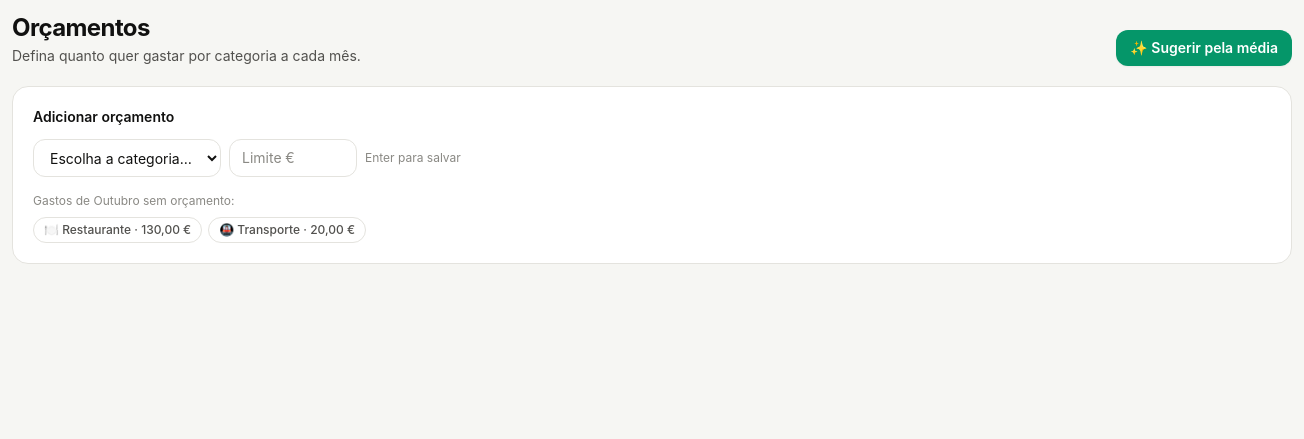
Test: Orçamentos › adds a budget by category with Enter, and shows ok / 80% / over states
The image size is (1304, 439).
Expected: the text "Gastos de Outubro sem orçamento:" is shown, [33, 193, 234, 208]
Select "🍽️ Restaurante" in the dropdown named "Categoria": [127, 158] box [33, 139, 221, 177]
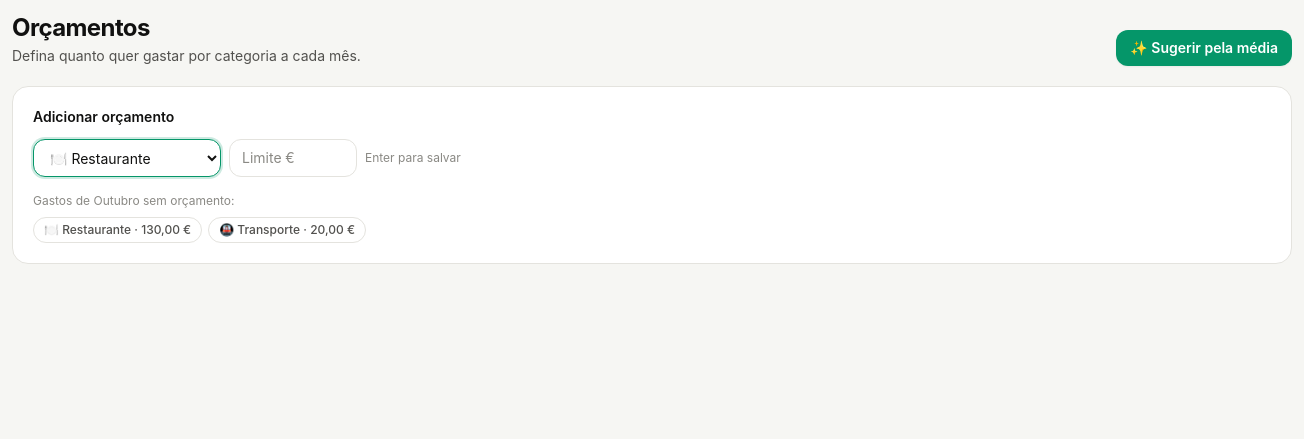
In the field with placeholder "Limite €": [293, 158] box [229, 139, 357, 177], type "150"
Then press Enter
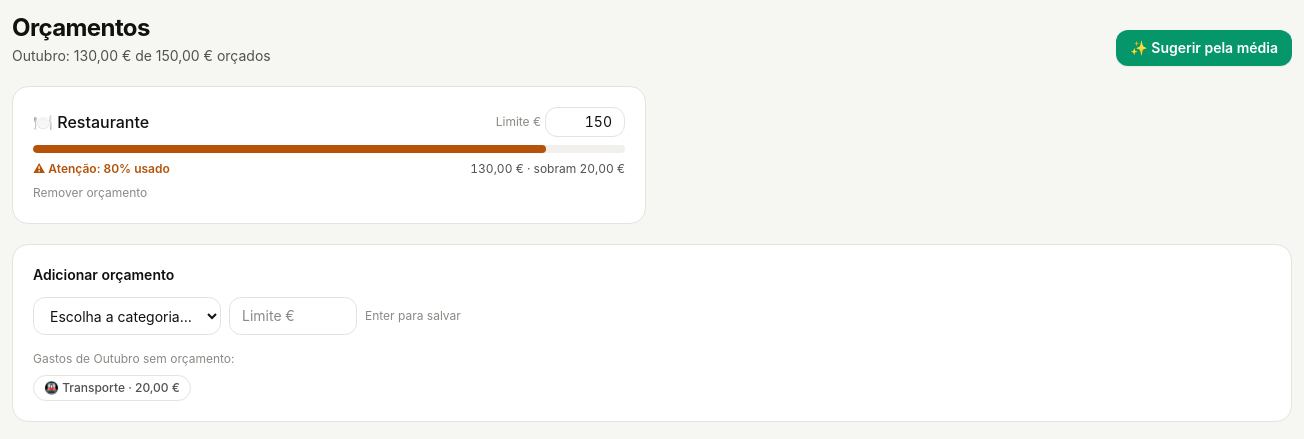
Expected: the text "⚠ Atenção: 80% usado" is shown, [33, 161, 170, 177]
Expected: the element named "Limite de Restaurante" shows "🍽️ Restaurante Limite € ⚠ Atenção: 80% usado 130,00 € · sobram 20,00 € Remover", [534, 161, 625, 176]
Replace the text in the field named "Limite de Restaurante" with "100": [585, 122] box [545, 107, 625, 137]
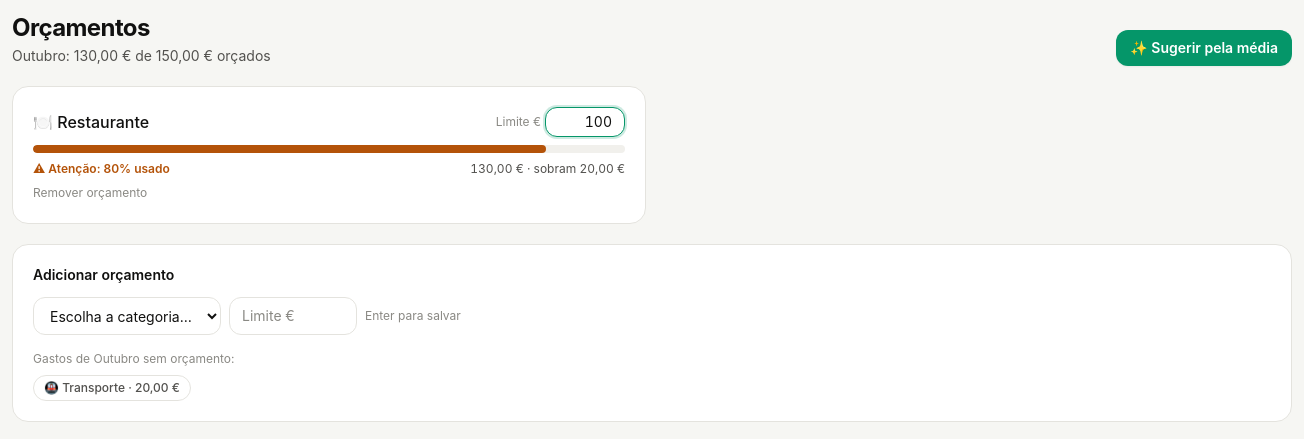
Press Tab
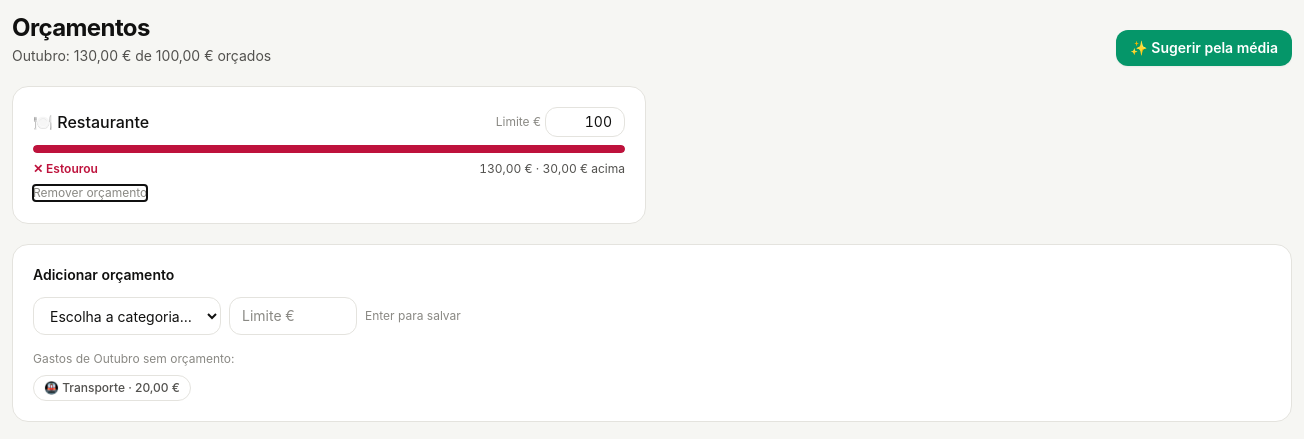
Expected: the element named "Limite de Restaurante" shows "✕ Estourou", [12, 86, 646, 224]
Expected: the element named "Limite de Restaurante" reads "🍽️ Restaurante Limite € ✕ Estourou 130,00 € · 30,00 € acima Remover orçamento", [542, 161, 625, 176]
Replace the text in the field named "Limite de Restaurante" with "500": [585, 122] box [545, 107, 625, 137]
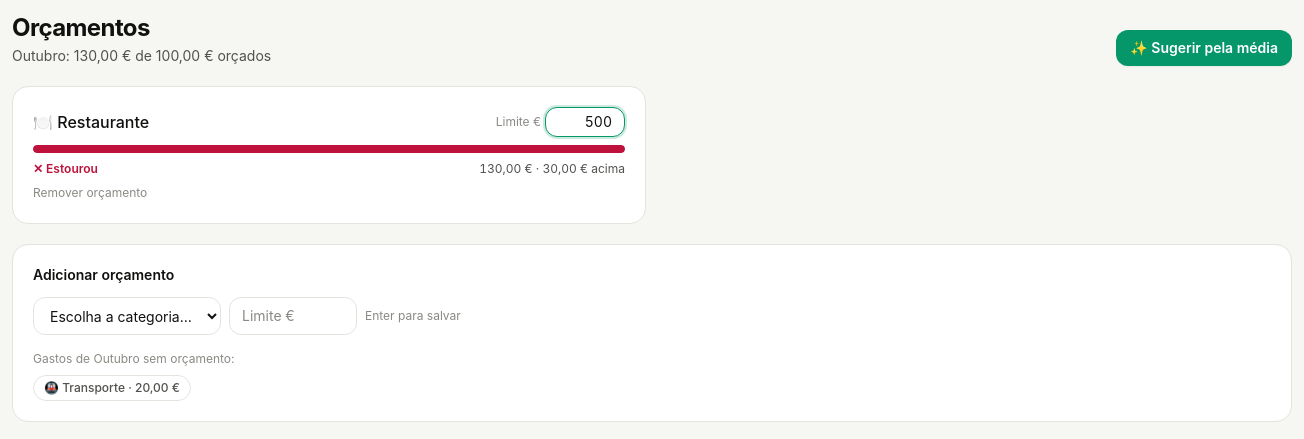
Press Tab
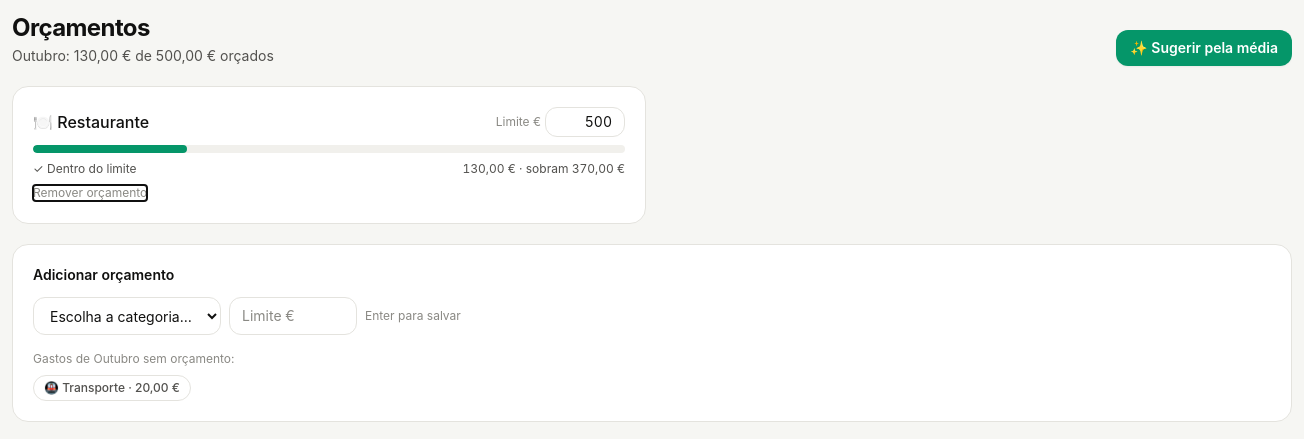
Expected: the element named "Limite de Restaurante" shows "✓ Dentro do limite", [12, 86, 646, 224]
